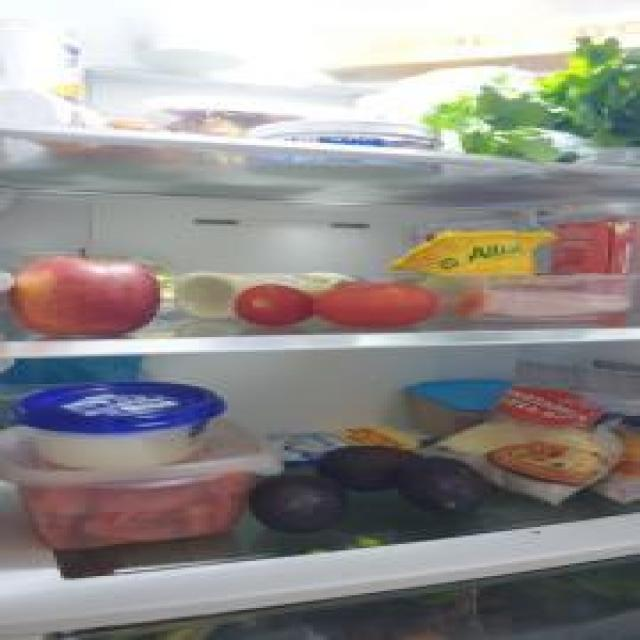apple: (5, 244, 158, 338)
avocado: (251, 472, 350, 536), (322, 444, 428, 488), (406, 457, 484, 516)
grated_cheese: (434, 358, 640, 508)
tomato: (315, 280, 439, 326), (238, 283, 316, 321)
